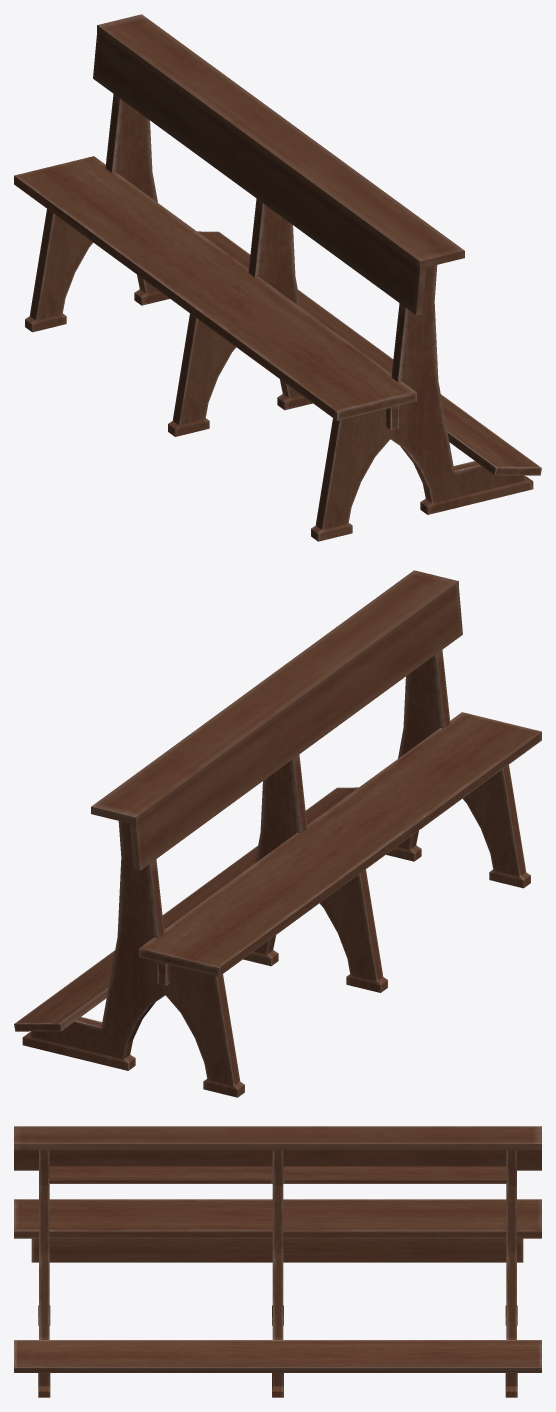
Rendered from bench.glb.
The picture shows the model from 3 angles, top to bottom: view 1: azimuth 30°, elevation 25°; view 2: azimuth 150°, elevation 25°; view 3: azimuth 270°, elevation 25°; orthographic projection. The views are drawn at different scales.
Parts seen in each view (by area): view 1: Object_4; view 2: Object_4; view 3: Object_4.
Part boxes in pixels (x1=…): Object_4: x1=14, y1=14, x2=541, y2=541; Object_4: x1=14, y1=570, x2=541, y2=1097; Object_4: x1=14, y1=1126, x2=541, y2=1397.
Size of the model in its own units: 0.7662 by 0.9177 by 1.99.
Materials: 1 (1 with a texture image).
